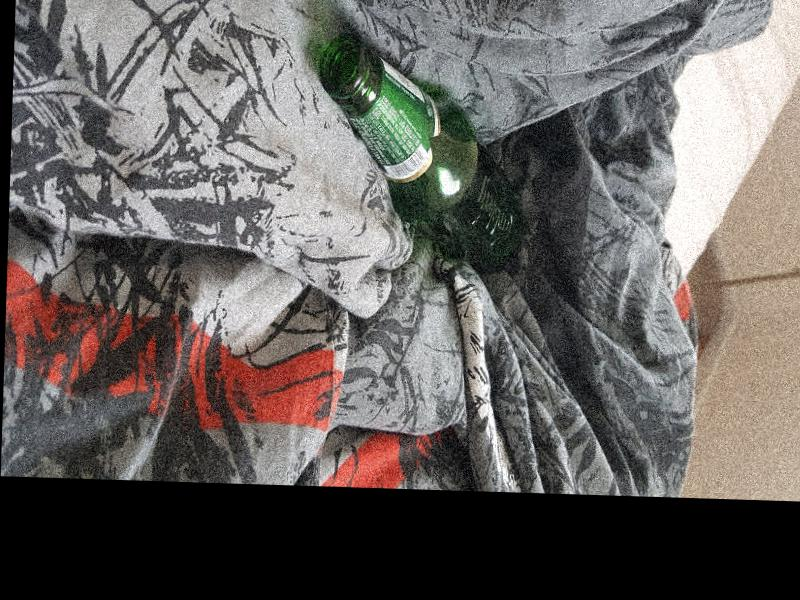Beer: (312, 35, 528, 276)
